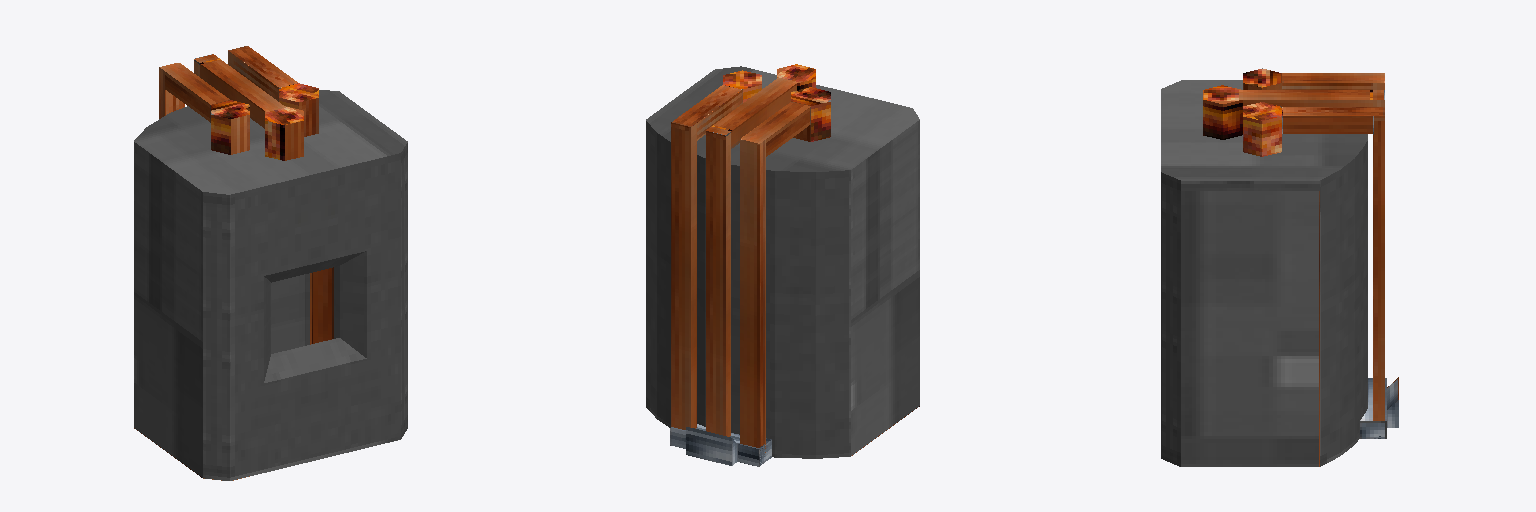
3 renders of one model, left to right at view 1: azimuth 30°, elevation 25°; view 2: azimuth 150°, elevation 25°; view 3: azimuth 270°, elevation 25°, orthographic.
Visible parts, largest first — view 1: ArcFurnace; view 2: ArcFurnace; view 3: ArcFurnace.
Part boxes in pixels (x1,y1,x2,y2): ArcFurnace: (134,46,407,480); ArcFurnace: (646,64,919,466); ArcFurnace: (1161,68,1398,466).
Size of the model in its own units: 6 by 9 by 6.
Materials: 1 (1 with a texture image).